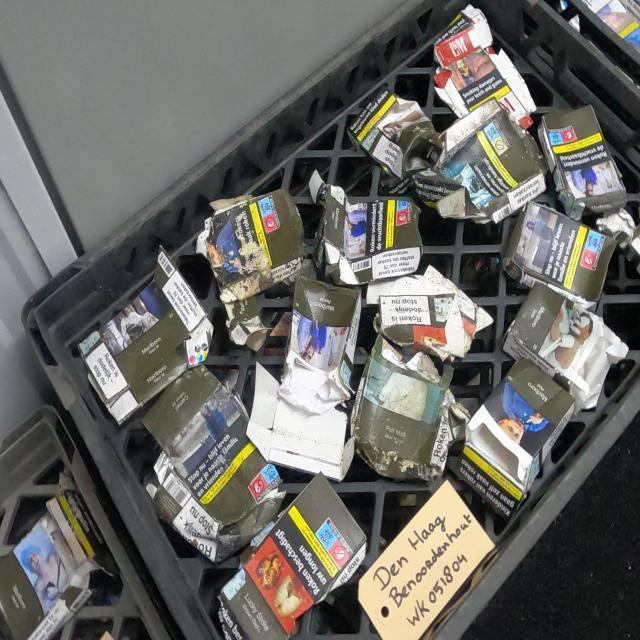Paper: (172, 250, 217, 327)
